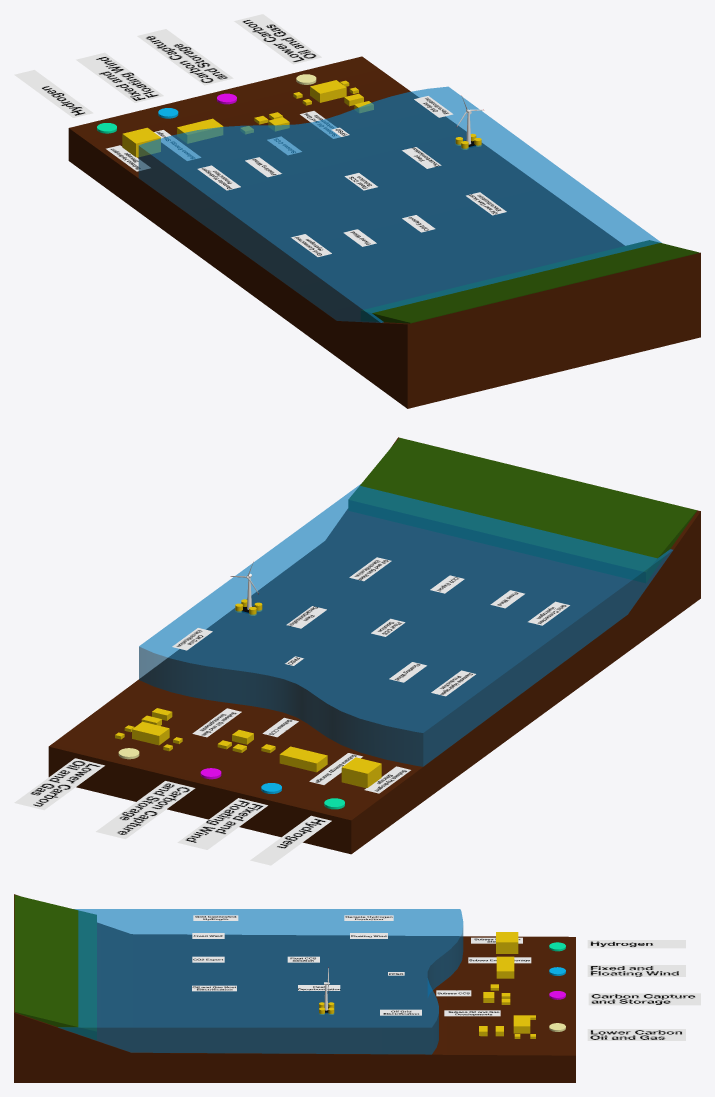
3 views of the same model, one above another, from view 1: azimuth 30°, elevation 25°; view 2: azimuth 150°, elevation 25°; view 3: azimuth 270°, elevation 25° (orthographic). The views are drawn at different scales.
Parts seen in each view (by area): view 1: Box002, Line003, Box004, Plane002, Plane001, Plane003, Plane004, Box021, Box020, Box008; view 2: Box002, Line003, Box004, Plane002, Plane001, Plane003, Plane004, Box021, Box020, Box008; view 3: Box002, Line003, Box004, Plane002, Plane003, Plane001, Plane004, Box021, Box020, Plane005, Box008, Plane016 (+1 smaller).
Boxes of the visible parts, x1,y1,x2,y2 form: Box002: (68,56,700,408); Line003: (138,86,661,322); Box004: (361,240,698,323); Plane002: (137,29,233,85); Plane001: (234,14,321,64); Plane003: (76,52,163,102); Plane004: (14,70,93,117); Box021: (122,127,160,157); Box020: (177,118,223,143); Box008: (310,80,346,102); Box002: (48,437,700,854); Line003: (139,484,672,766); Box004: (348,437,696,582); Plane002: (96,781,195,839); Plane001: (14,758,104,810); Plane003: (177,798,267,849); Plane004: (250,815,331,865); Box021: (341,757,381,788); Box020: (279,746,327,772); Box008: (132,721,169,745); Box002: (14,894,575,1082); Line003: (58,909,463,1054); Box004: (14,895,96,1039); Plane002: (588,993,700,1005); Plane003: (587,965,685,976); Plane001: (587,1029,685,1040); Plane004: (587,940,685,948); Box021: (496,932,518,953); Box020: (496,956,514,978); Plane005: (444,1010,500,1016); Box008: (513,1015,530,1033); Plane016: (468,957,531,963).
Size of the model in its own units: 0.2 by 0.0752 by 0.4889.
Materials: 12 (2 with a texture image).
